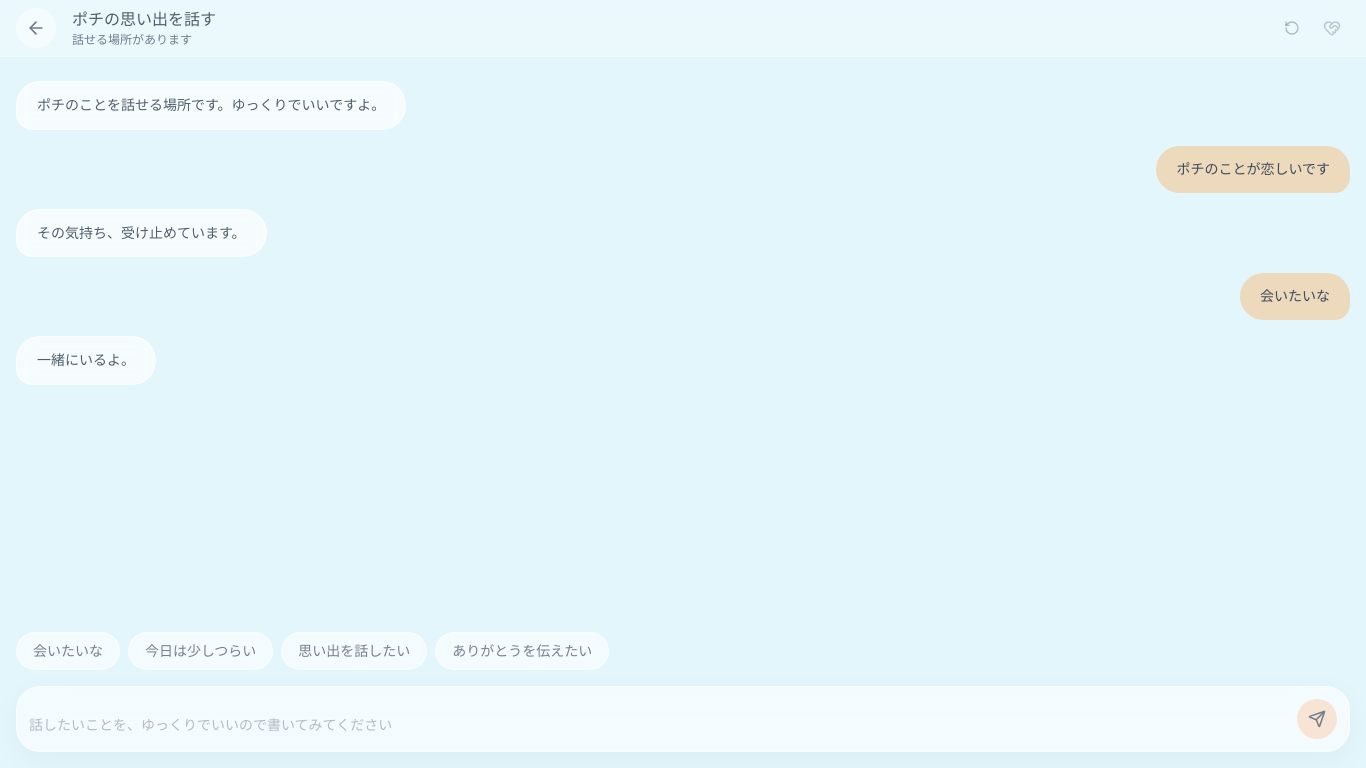
Test: ChatScreen › APIエラー時にインラインエラーが表示され、フォームが継続して使える
This screenshot has width=1366, height=768.
Type "テスト" into the text box with placeholder "話したいことを、ゆっくりでいいので書いてみてください".
click(657, 727); type("テスト")  # box [29,715,1285,739]
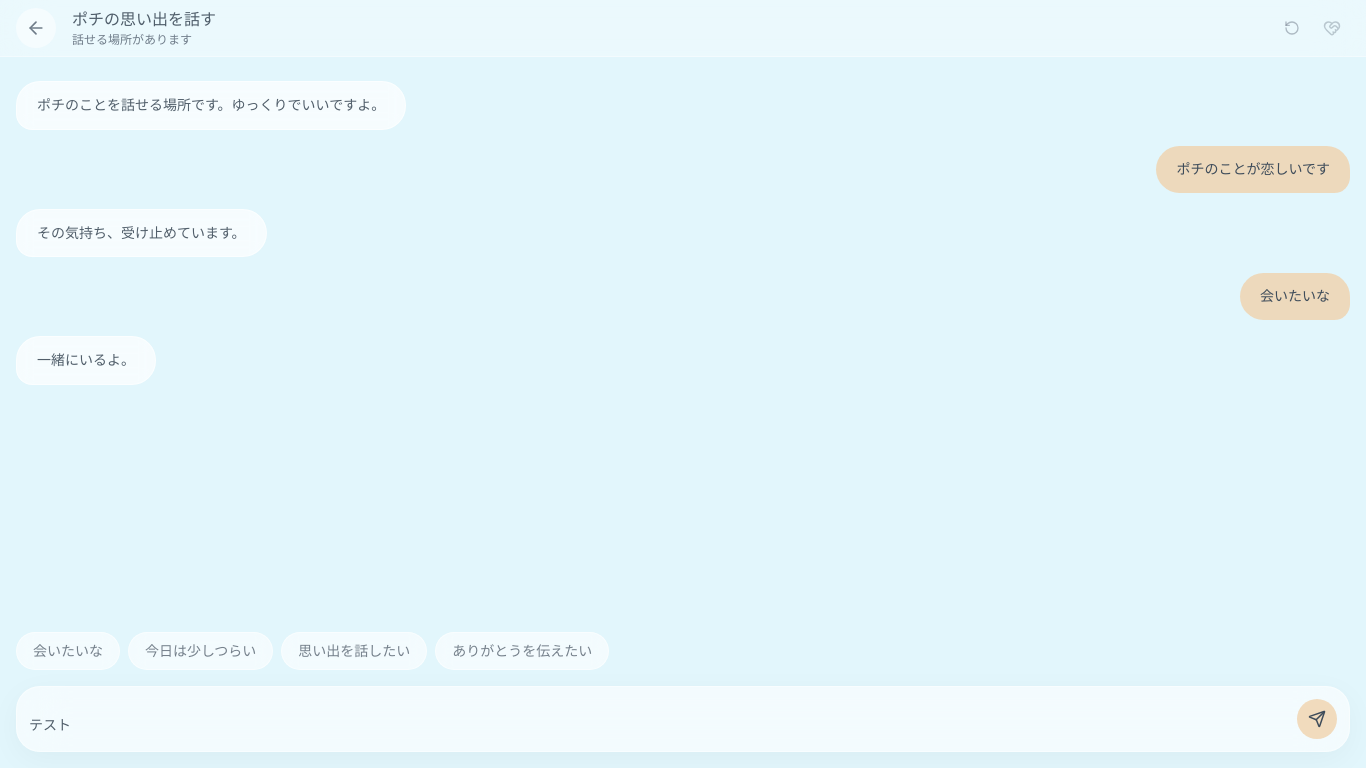
Press Enter
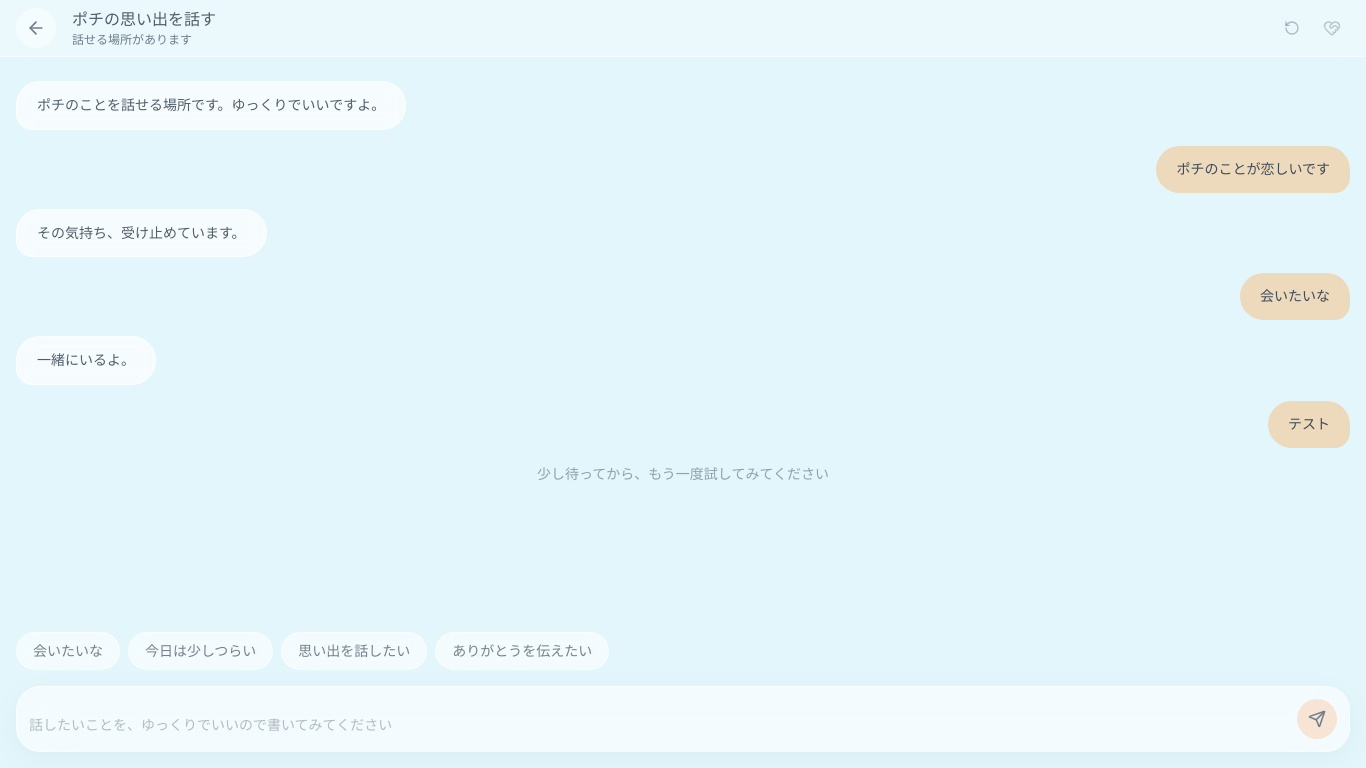
Expected: the text box with placeholder "話したいことを、ゆっくりでいいので書いてみてください" is enabled, [29,715,1285,739]
Now the text "少し待ってから、もう一度試してみてください" is shown, box [537,466,829,482]
